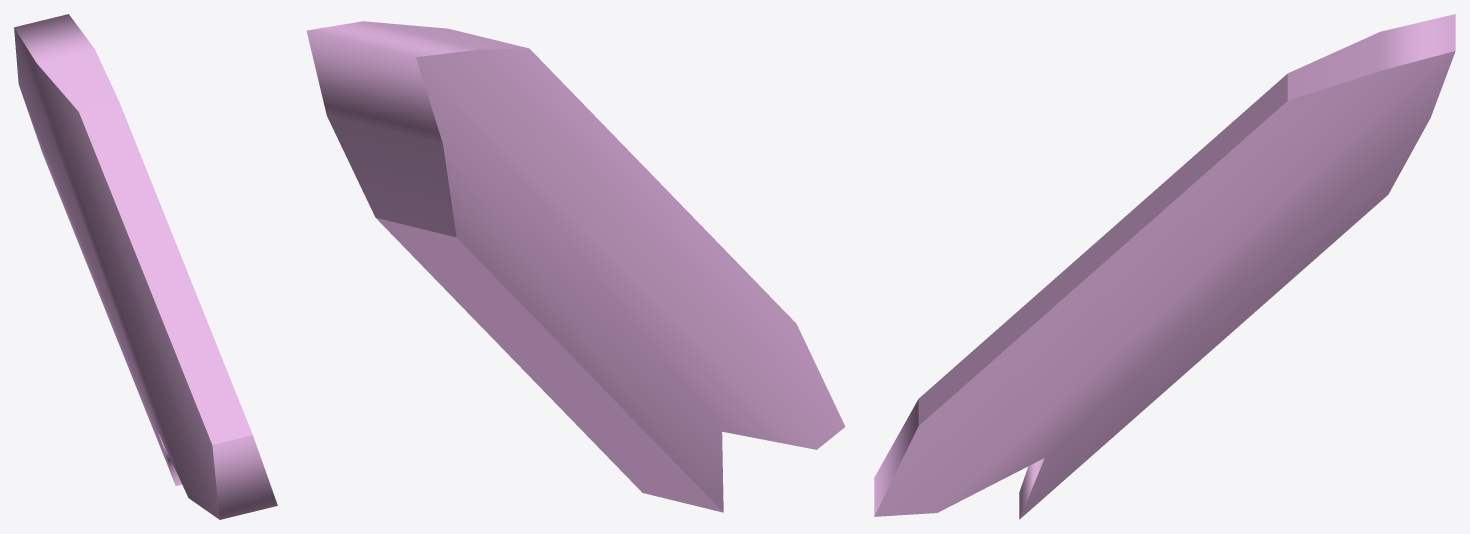
The model's file is SwordPinkShard.fbx.
The picture shows the model from 3 angles, left to right: view 1: azimuth 30°, elevation 25°; view 2: azimuth 150°, elevation 25°; view 3: azimuth 270°, elevation 25°; orthographic projection. The views are drawn at different scales.
Parts seen in each view (by area): view 1: polySurface43; view 2: polySurface43; view 3: polySurface43.
Boxes of the visible parts, box(x1,y1,x2,y2) form: polySurface43: box(14, 14, 277, 519); polySurface43: box(306, 21, 845, 512); polySurface43: box(874, 14, 1455, 519).
Size of the model in its own units: 0.8359 by 3.64 by 4.03.
